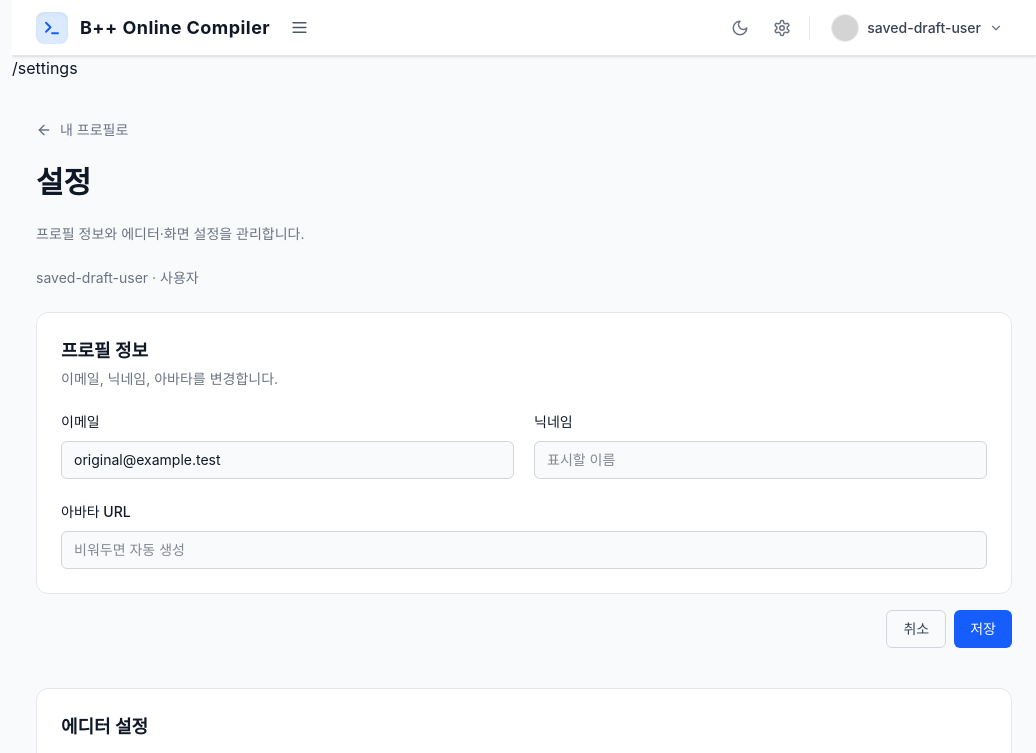
Header authentication refresh › does not overwrite a saved profile with an older in-flight profile read
Replace the text in the field labelled "이메일" with "saved@example.test": (288, 460) 61,441 -> 514,479
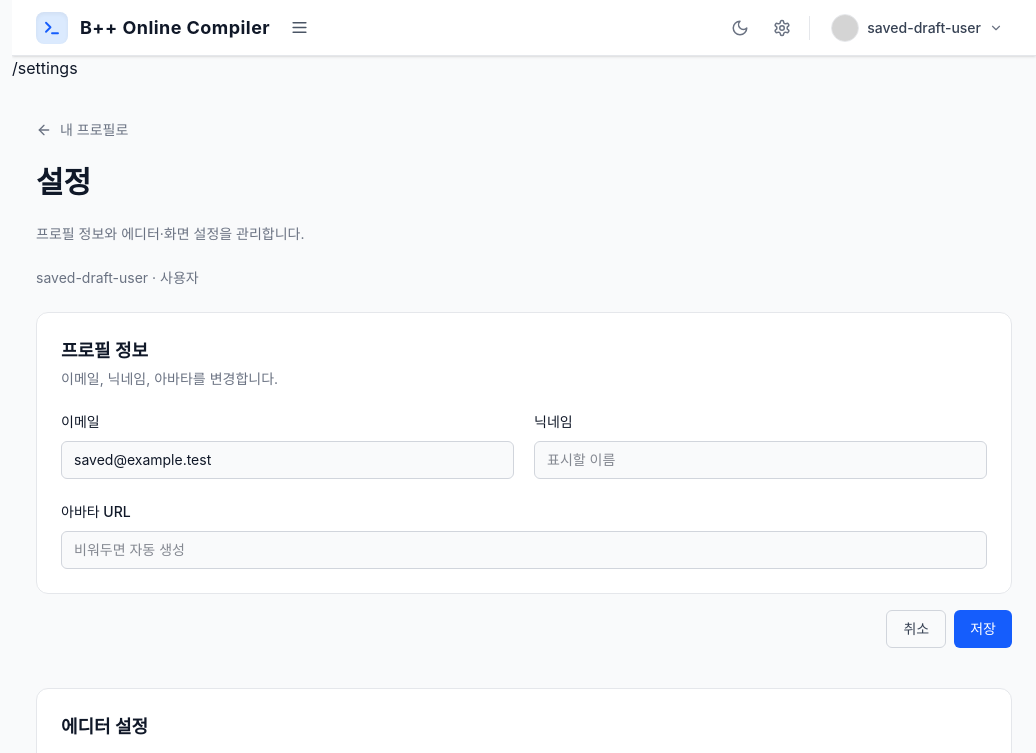
Click the button "저장": click(983, 629) 954,610 -> 1012,648
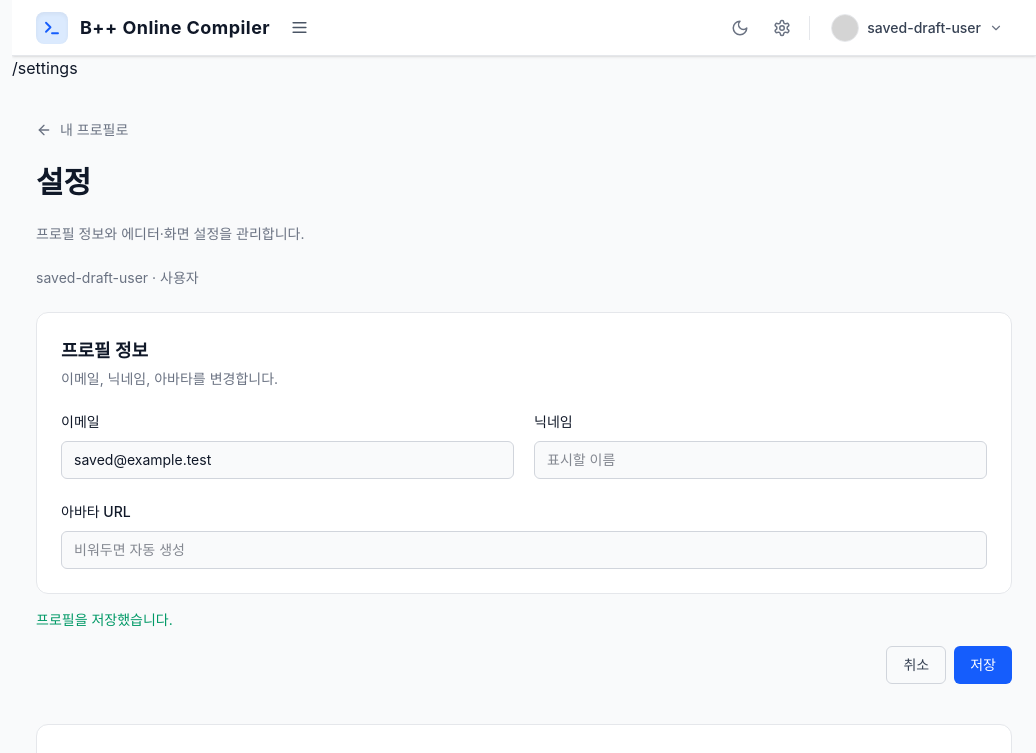
Expected: the text "프로필을 저장했습니다." is shown, 36,611 -> 173,628
